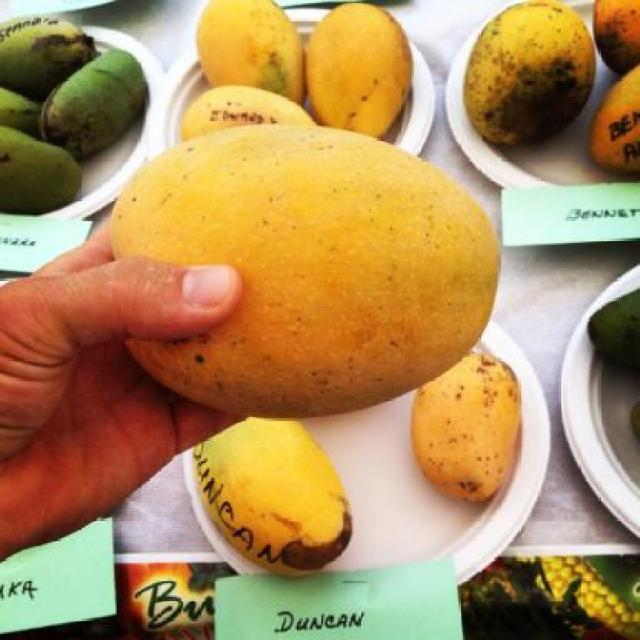Mango: (129, 122, 502, 416), (190, 418, 352, 576), (462, 0, 593, 142), (414, 352, 520, 500), (306, 1, 412, 138), (197, 0, 305, 105), (41, 49, 144, 154), (0, 17, 94, 94), (182, 84, 310, 138), (0, 127, 77, 216), (588, 62, 640, 172), (594, 0, 639, 72), (0, 86, 42, 136)
